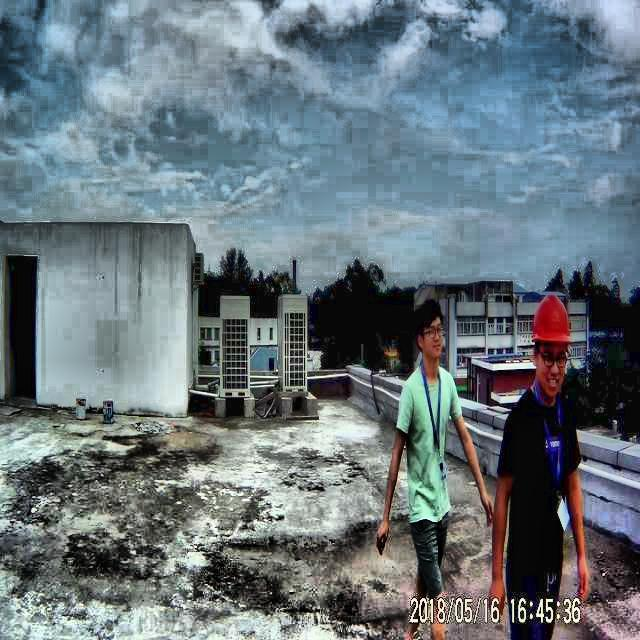person: (494, 288, 596, 596), (386, 290, 470, 572)
